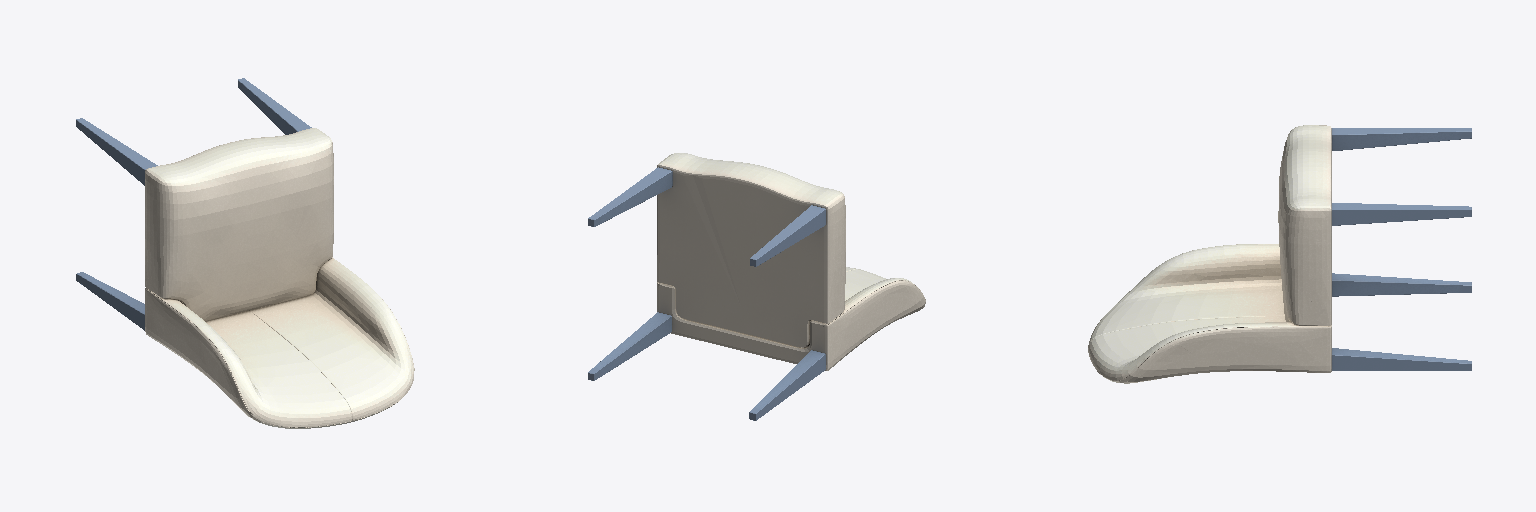
3 views of the same model, side by side, from view 1: azimuth 30°, elevation 25°; view 2: azimuth 150°, elevation 25°; view 3: azimuth 270°, elevation 25° (orthographic).
Size of the model in its own units: 0.4929 by 0.5209 by 0.9283.
Materials: 1 (1 with a texture image).